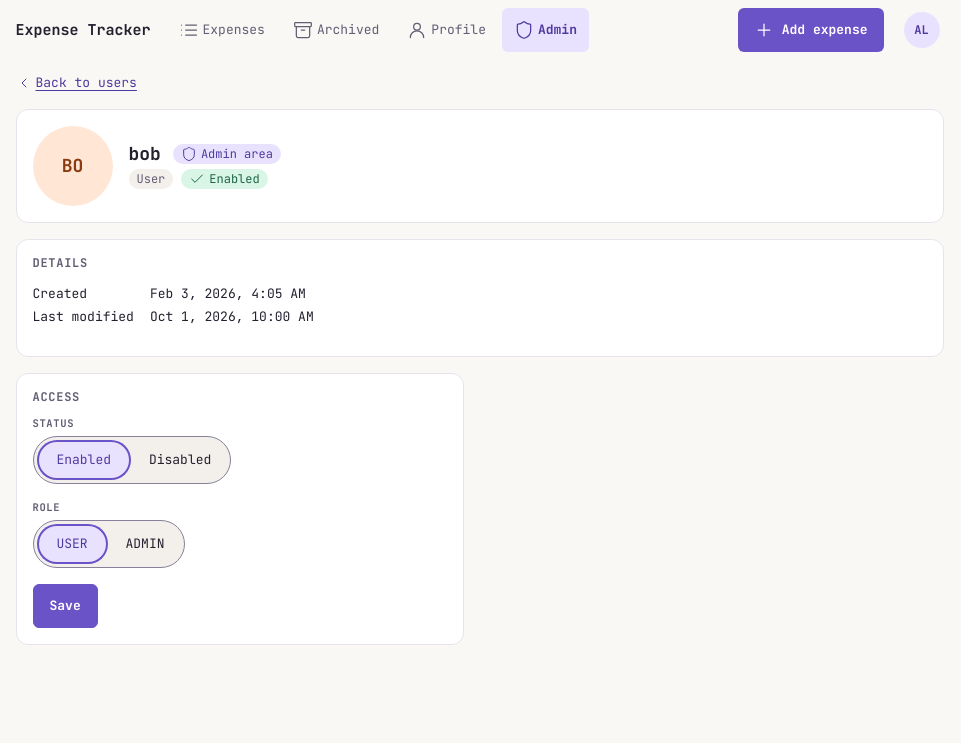
Test case: edit user › says so when a demoted admin saves
Check: the heading "bob" is shown, box [128,144,161,165]
Click the radio button labelled "ADMIN". click: (145, 543)
box: [126,535,164,552]
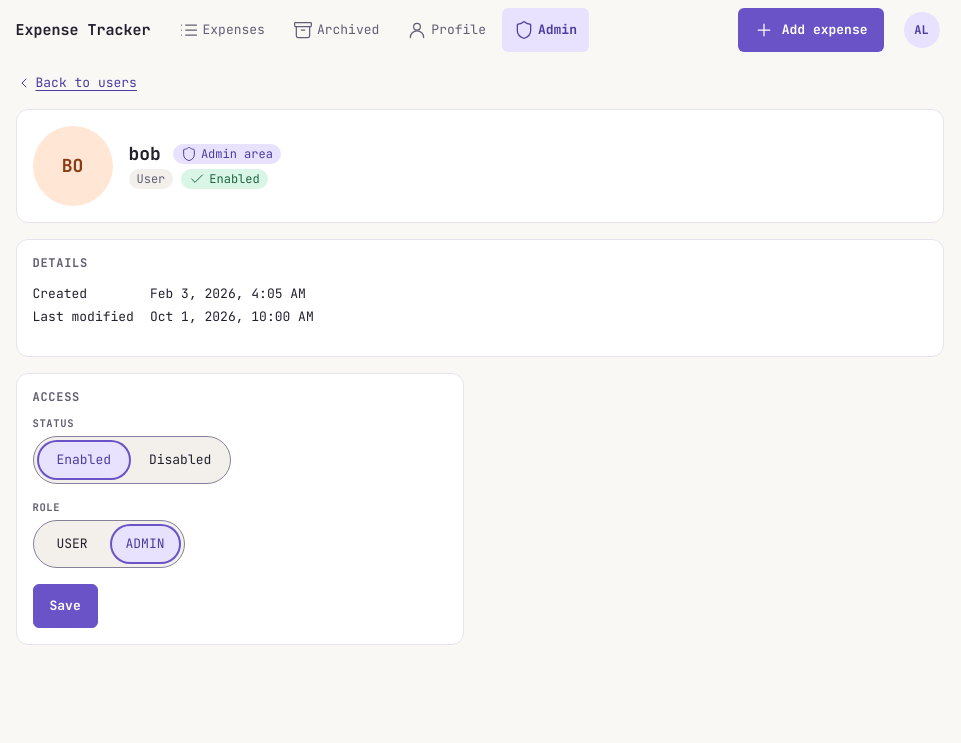
Click the button "Save". click: (65, 606)
box: [32,584,98,628]
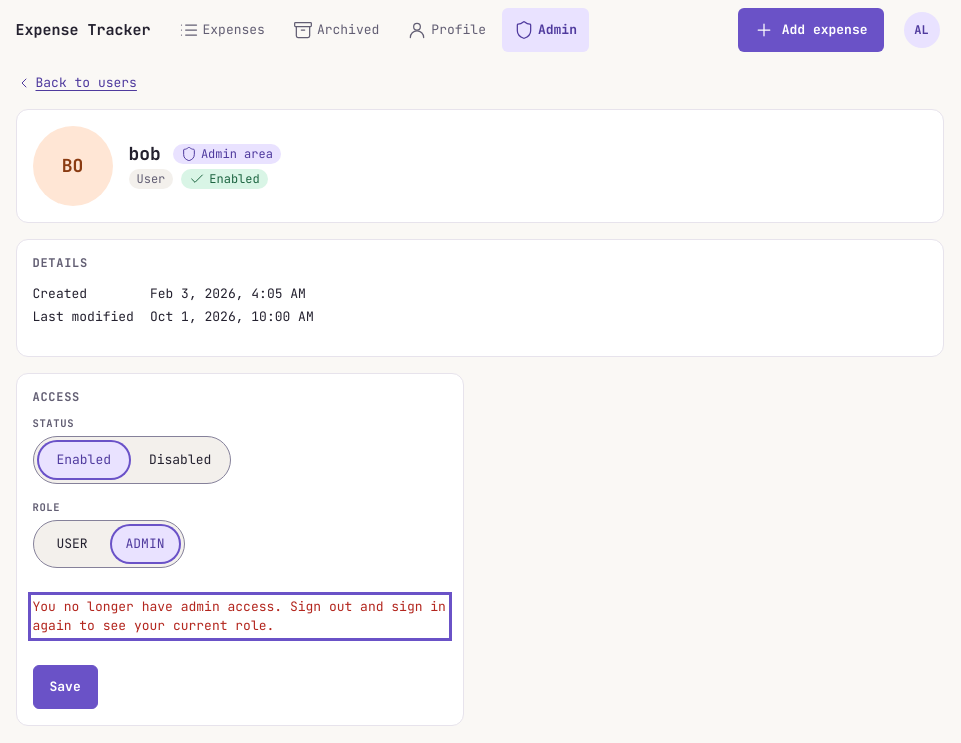
Check: the message shows "You no longer have admin access", box [32,598,446,634]
